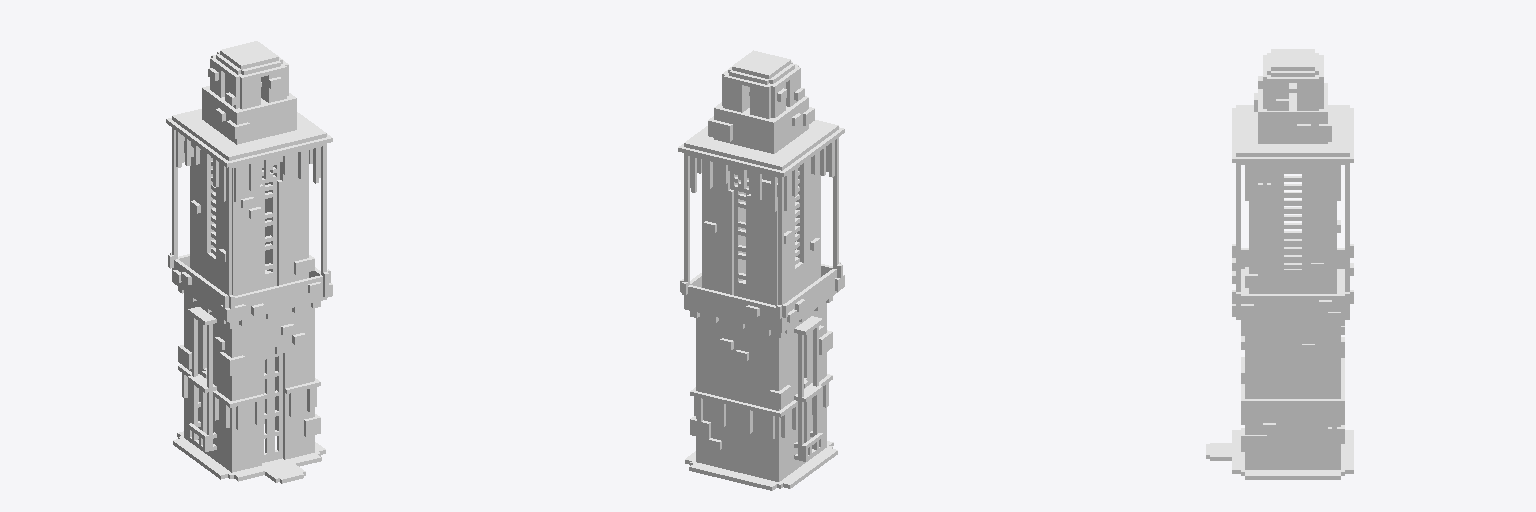
The model's file is TallBuilding02.obj.
The picture shows the model from 3 angles: view 1: azimuth 30°, elevation 25°; view 2: azimuth 150°, elevation 25°; view 3: azimuth 270°, elevation 25°; orthographic projection.
Parts seen in each view (by area): view 1: object 1; view 2: object 1; view 3: object 1.
Part boxes in pixels (x1,y1,x2,y2): object 1: (166, 41, 332, 483); object 1: (678, 50, 844, 490); object 1: (1206, 49, 1353, 479).
Size of the model in its own units: 2.8 by 10 by 3.4.